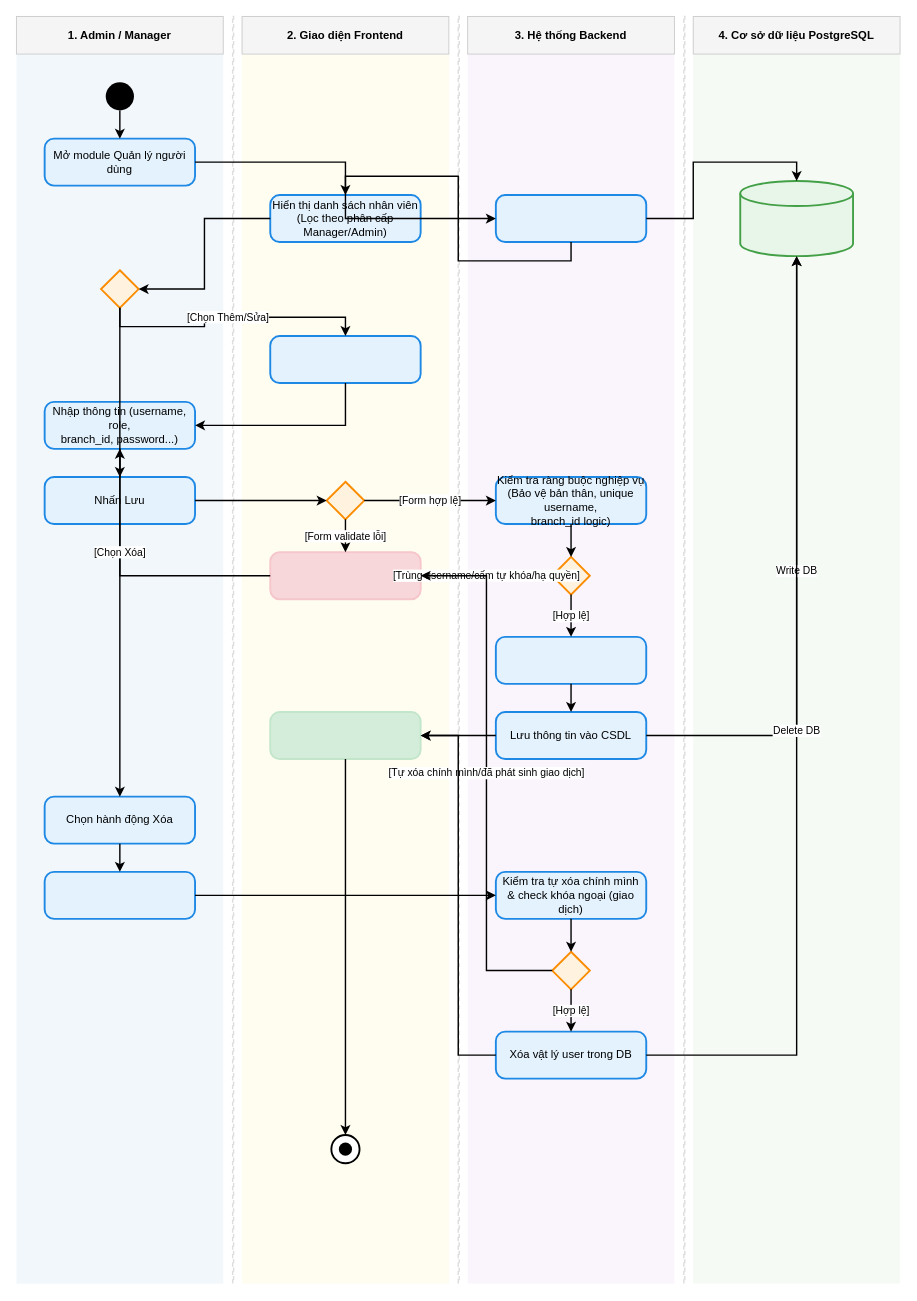
Some shapes in this 917 by 1301 pixel diagram are drawn without their labels. Here are the shapes that lost their labels. From the top down, the box of each, then its label:
(494, 194, 647, 243): Truy xuất danh sách Users lọc theo branch_id (nếu Manager)
(739, 180, 854, 257): Bảng Users
(269, 335, 421, 384): Hiển thị Form Thêm/Sửa User
(269, 551, 421, 600): Báo lỗi trên UI
(494, 635, 647, 684): Băm BCrypt password mới (Nếu password trống thì giữ nguyên cũ)
(269, 711, 421, 760): Hiển thị thông báo thành công
(43, 870, 196, 919): Xác nhận xóa trên popup
